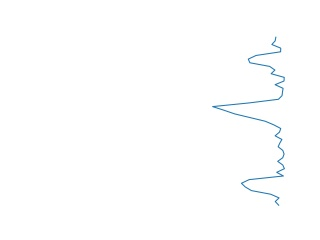underwaterNaturalLevee: (207, 34, 289, 212)
